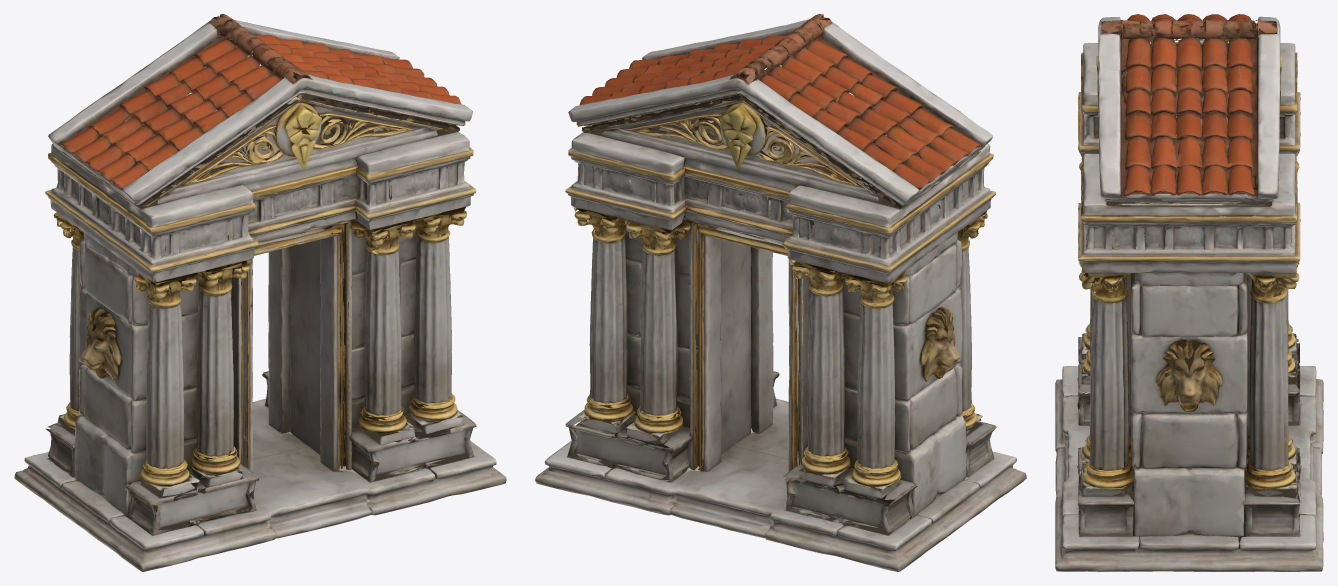
The model's file is gate.glb.
3 renders of one model, left to right at view 1: azimuth 30°, elevation 25°; view 2: azimuth 150°, elevation 25°; view 3: azimuth 270°, elevation 25°, orthographic. The views are drawn at different scales.
Parts seen in each view (by area): view 1: geometry_0; view 2: geometry_0; view 3: geometry_0.
Boxes of the visible parts, x1,y1,x2,y2 form: geometry_0: (14, 14, 506, 571); geometry_0: (535, 14, 1026, 571); geometry_0: (1055, 14, 1323, 571).
Bounding box in the file's own units: 0.8696 × 0.9989 × 0.5299.
Materials: 1 (1 with a texture image).
